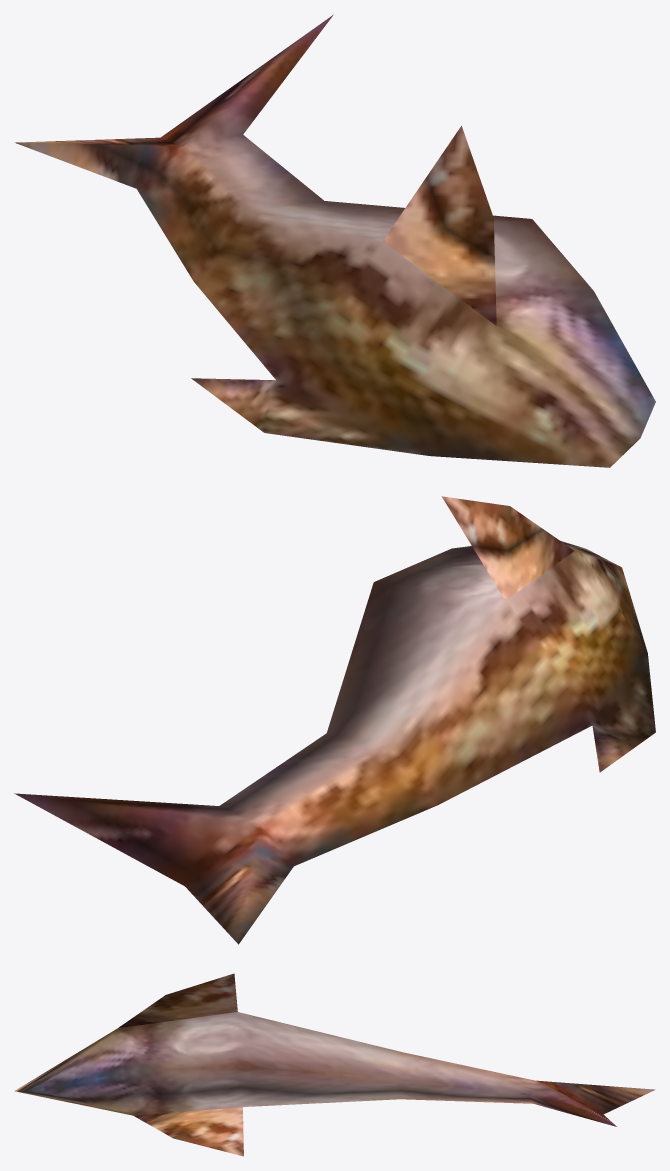
File: fish-dead-orange.glb
The picture shows the model from 3 angles, top to bottom: view 1: azimuth 30°, elevation 25°; view 2: azimuth 150°, elevation 25°; view 3: azimuth 270°, elevation 25°; orthographic projection. The views are drawn at different scales.
Visible parts, largest first — view 1: fish-dead-orange_Geoset0; view 2: fish-dead-orange_Geoset0; view 3: fish-dead-orange_Geoset0.
Boxes of the visible parts, x1,y1,x2,y2 form: fish-dead-orange_Geoset0: (15, 14, 655, 467); fish-dead-orange_Geoset0: (14, 496, 655, 944); fish-dead-orange_Geoset0: (14, 973, 655, 1156).
Bounding box in the file's own units: 0.3101 × 0.1823 × 0.6819.
1 material, 1 textured.
